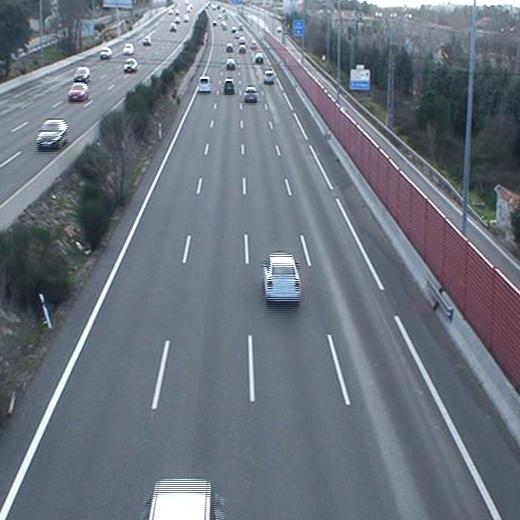car: (260, 252, 305, 306), (243, 86, 259, 102), (223, 78, 237, 95), (252, 51, 265, 66), (264, 69, 276, 85), (226, 58, 237, 70)
van: (197, 76, 212, 95)
